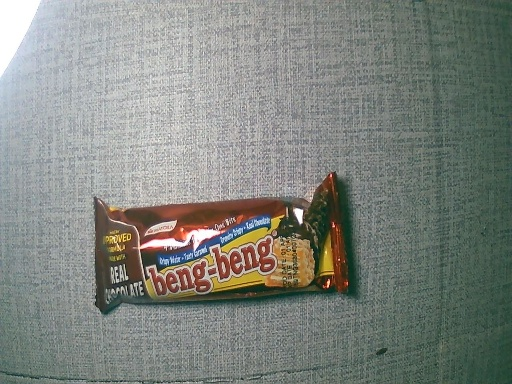plastic: (94, 190, 350, 309)
